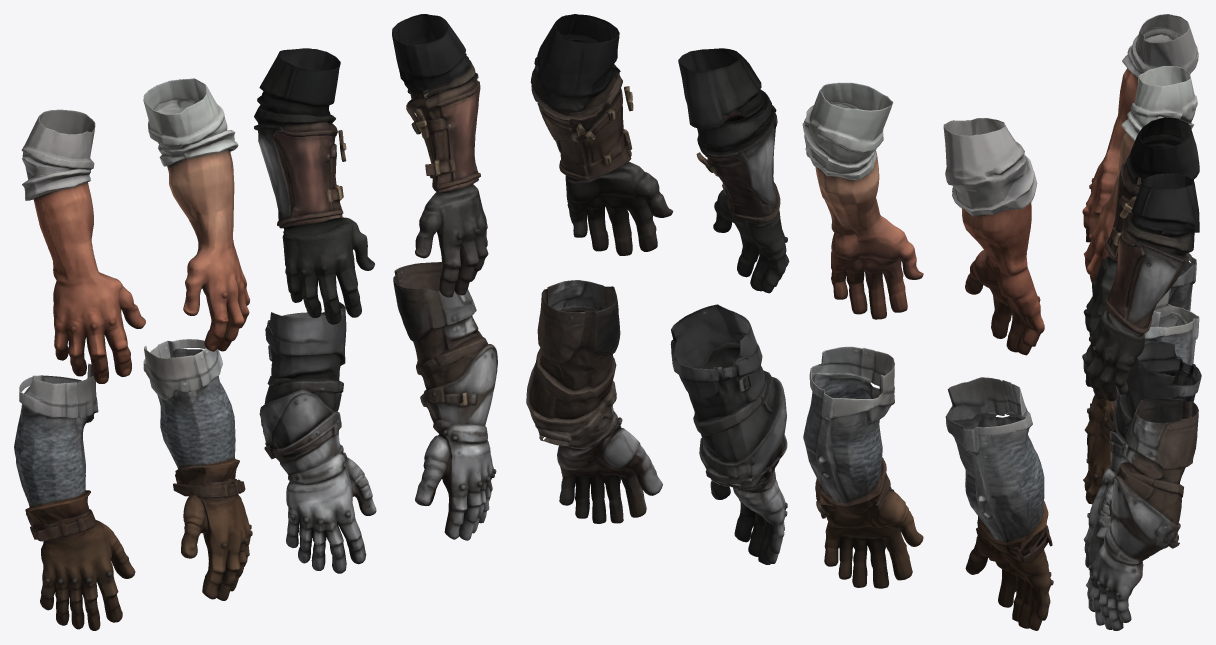
Rendered from arms.glb.
3 renders of one model, left to right at view 1: azimuth 30°, elevation 25°; view 2: azimuth 150°, elevation 25°; view 3: azimuth 270°, elevation 25°, orthographic. The views are drawn at different scales.
Visible parts, largest first — view 1: world; view 2: world; view 3: world.
Boxes of the visible parts, box(x1,y1,x2,y2) form: world: box(14, 14, 497, 630); world: box(526, 14, 1053, 630); world: box(1082, 14, 1201, 630).
Bounding box in the file's own units: 0.9903 × 0.9954 × 0.2428.
Materials: 1 (1 with a texture image).
